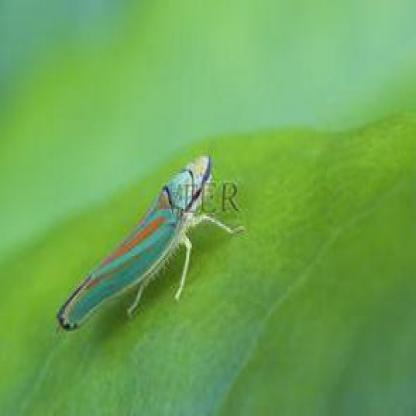green-leafhopper: (53, 145, 224, 333)
